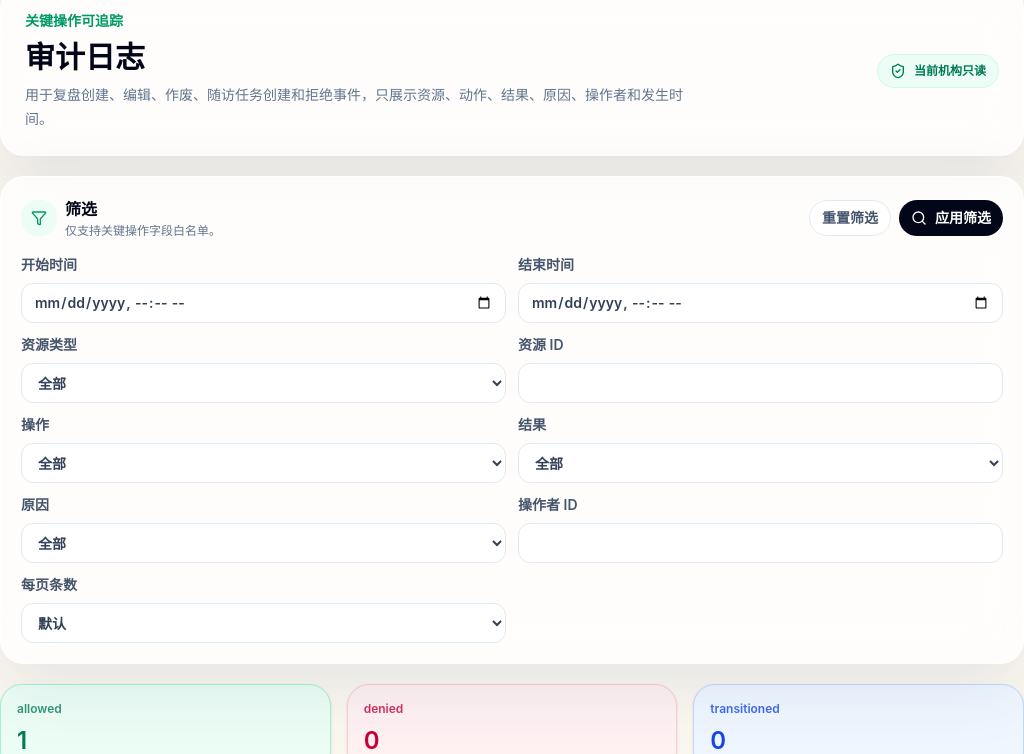
机构业务页面壳 › 审计日志失败清空 ref 后不会在恢复请求的 append 中复活旧记录
Click the button "应用筛选".
click(951, 218)  # box x1=899 y1=200 x2=1003 y2=236
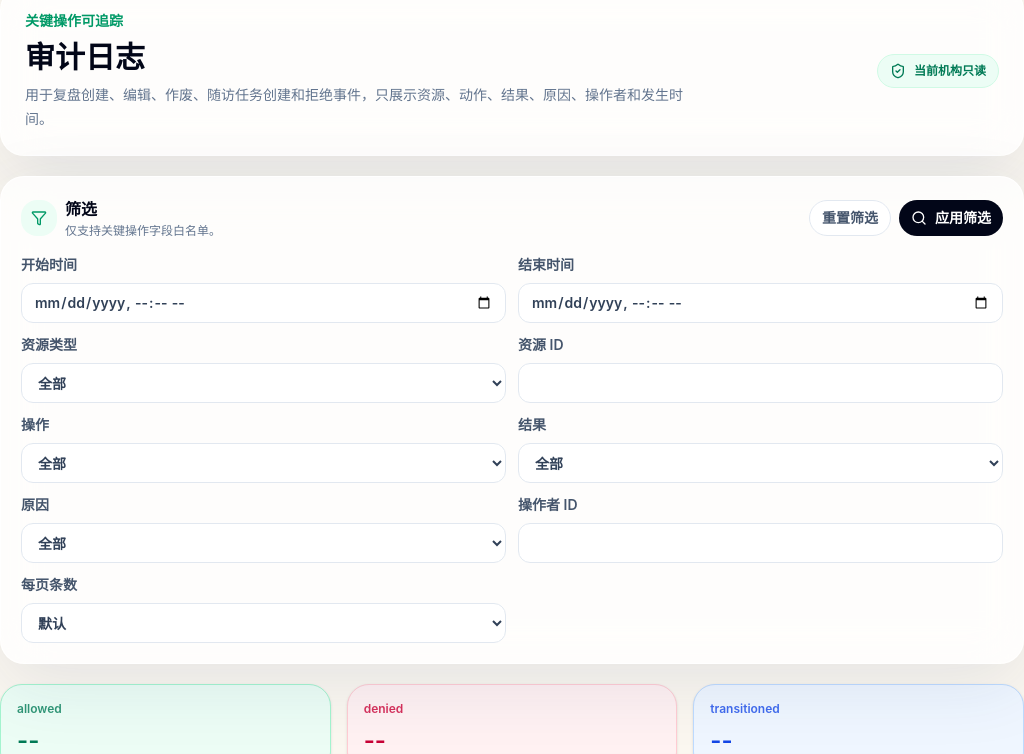
Click the button "应用筛选".
click(951, 218)  # box x1=899 y1=200 x2=1003 y2=236
(page scrolled)
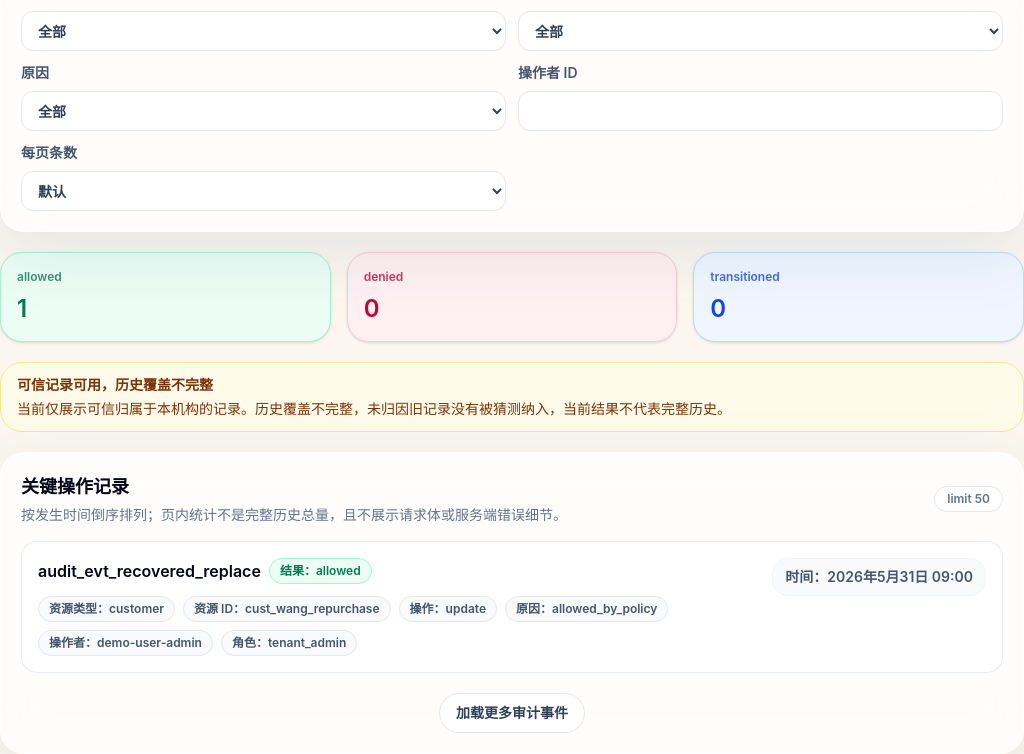
expect the text "audit_evt_recovered_replace" is shown: met, box x1=38 y1=559 x2=261 y2=583
Click the button "加载更多审计事件".
click(512, 713)  # box x1=439 y1=693 x2=585 y2=733
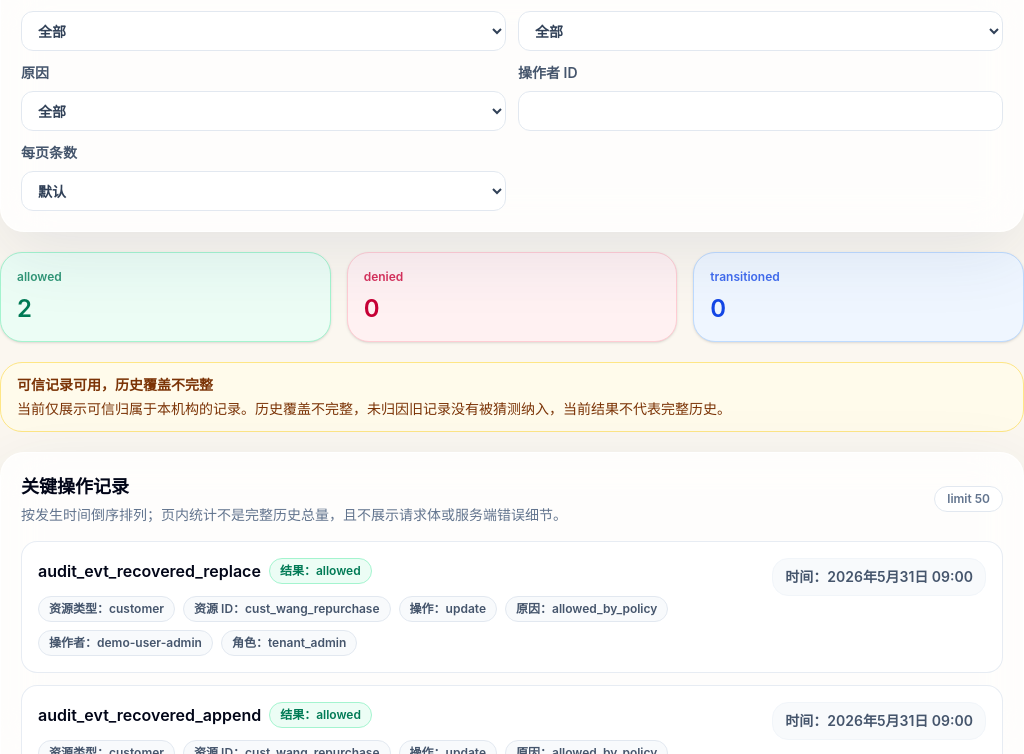
expect the text "audit_evt_recovered_replace" is shown: met, box x1=38 y1=559 x2=261 y2=583
expect the text "audit_evt_recovered_append" is shown: met, box x1=38 y1=703 x2=261 y2=727
